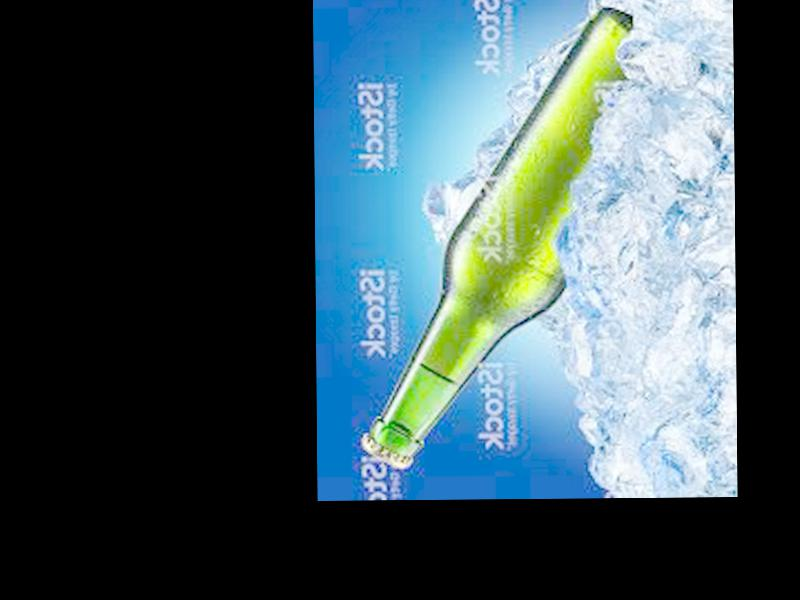Beer: (355, 5, 637, 473)
